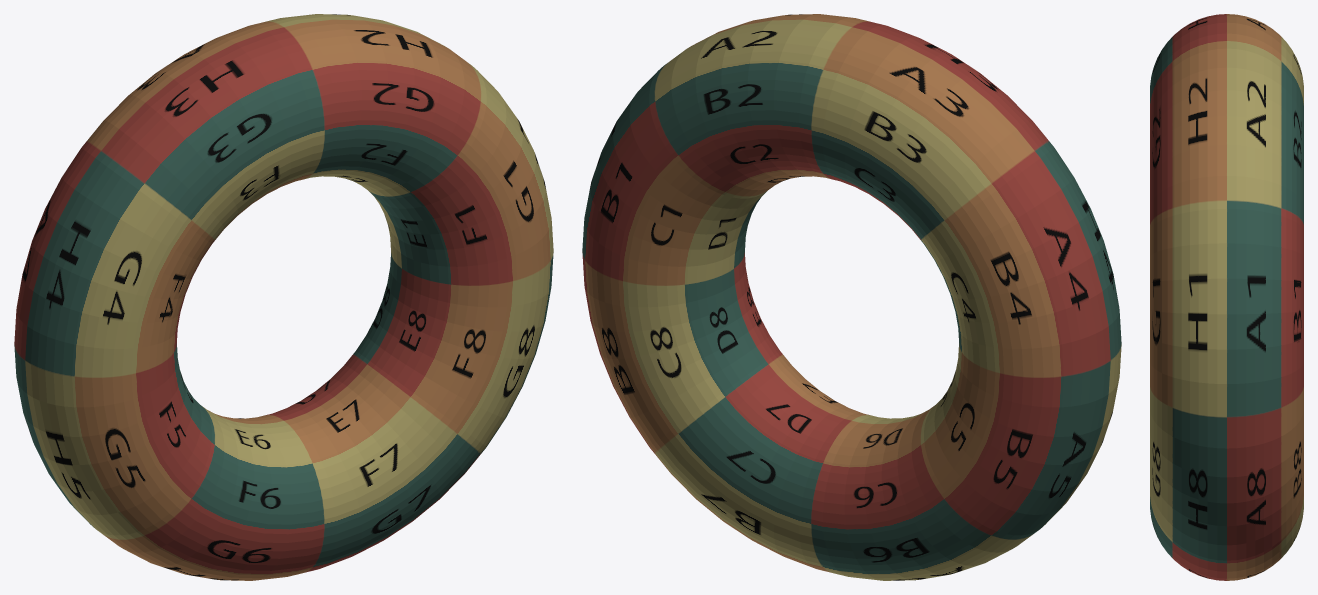
File: texture_torus_R23_r28.glb
The picture shows the model from 3 angles, left to right: view 1: azimuth 30°, elevation 25°; view 2: azimuth 150°, elevation 25°; view 3: azimuth 270°, elevation 25°; orthographic projection. The views are drawn at different scales.
Parts seen in each view (by area): view 1: world; view 2: world; view 3: world.
Part boxes in pixels (bbox=[...]): world: bbox=[14, 14, 553, 580]; world: bbox=[582, 14, 1121, 580]; world: bbox=[1150, 14, 1303, 580].
Bounding box in the file's own units: 34.8 × 34.73 × 9.45.
Materials: 1 (1 with a texture image).
